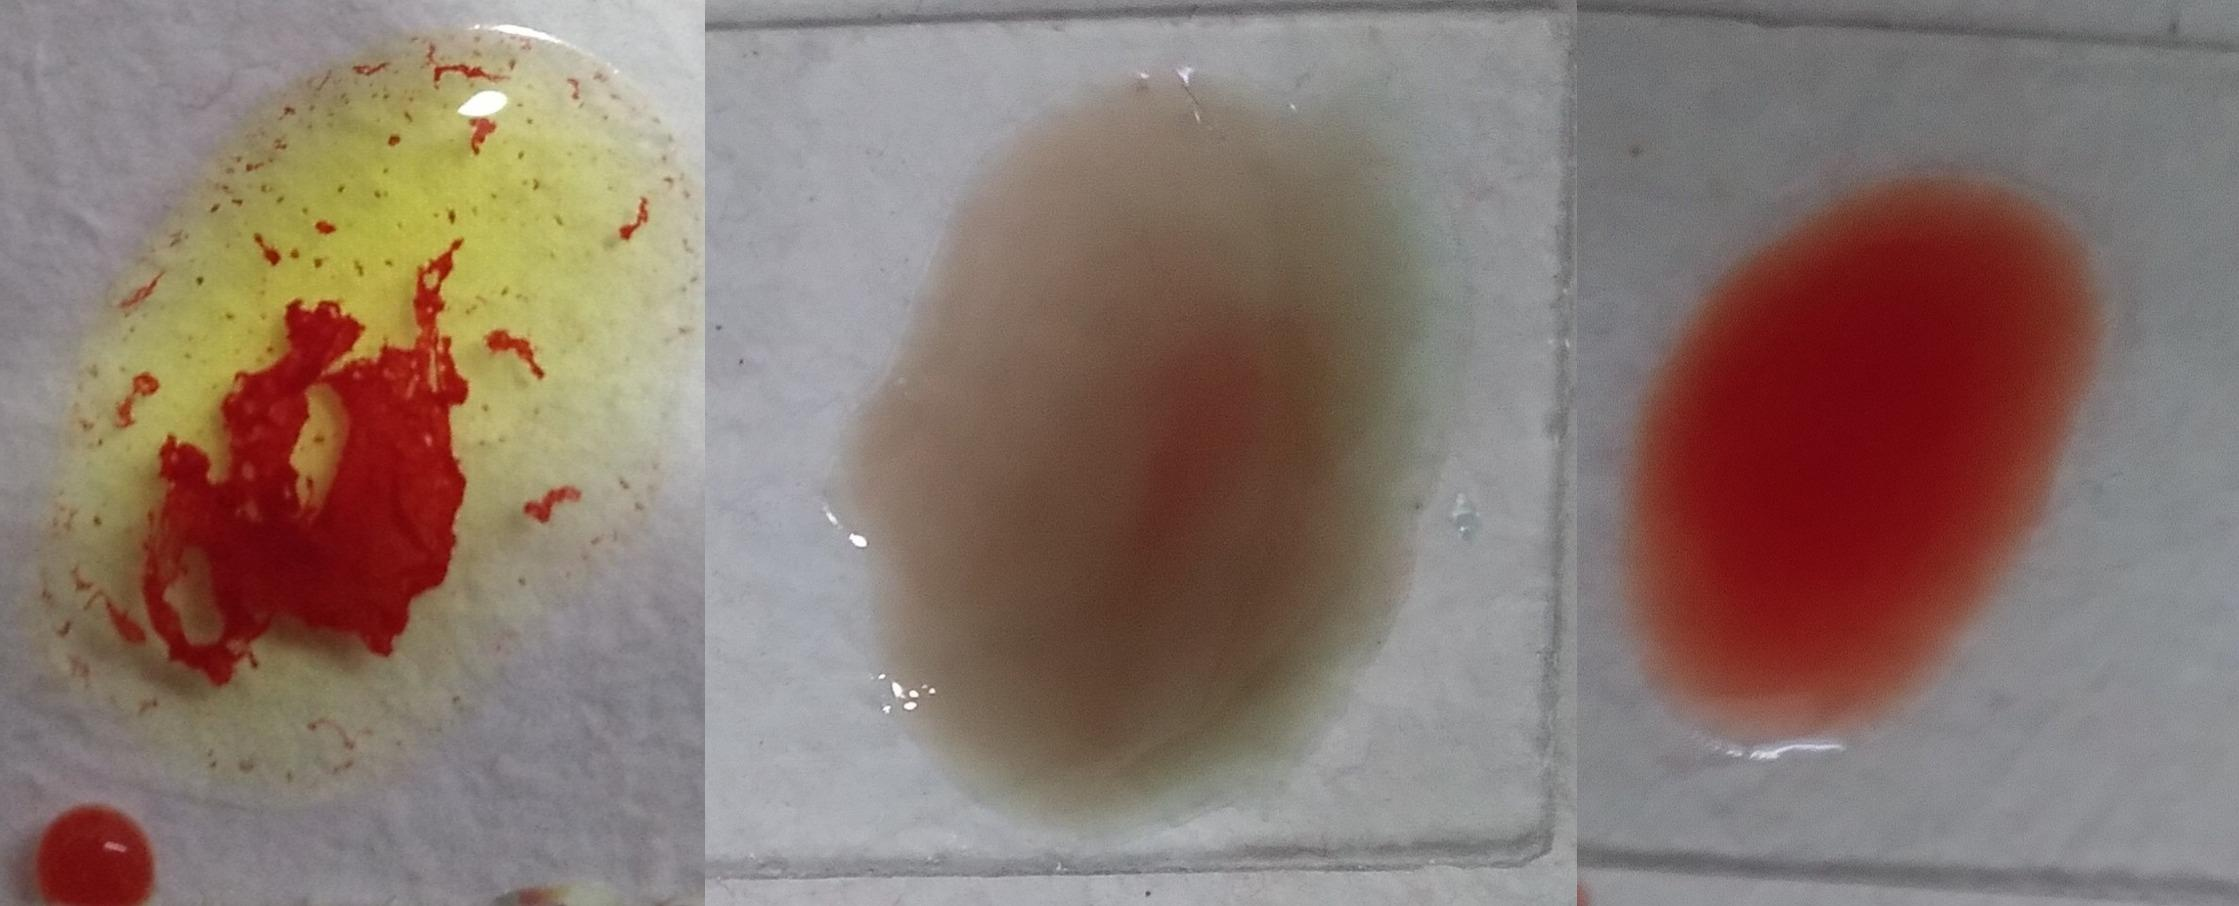B: (83, 29, 641, 780)
